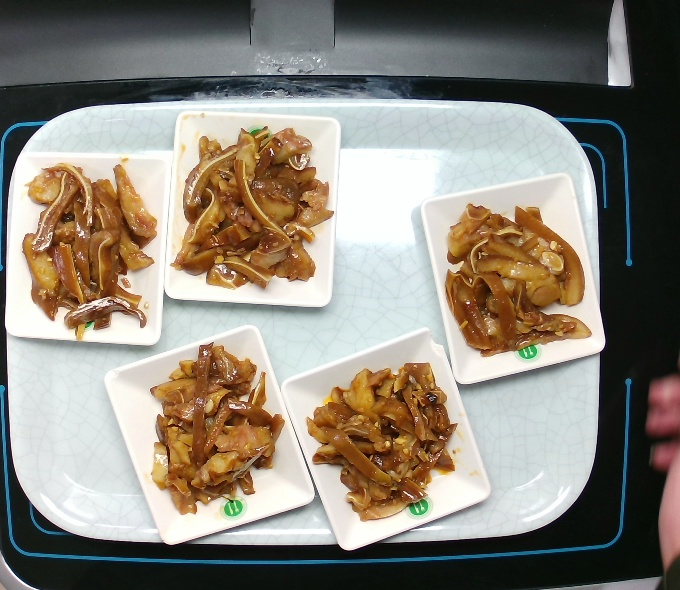wcq-ZhuErDuo: (135, 326, 293, 524), (167, 106, 332, 293), (301, 347, 470, 524), (432, 187, 601, 359), (19, 152, 165, 345)
